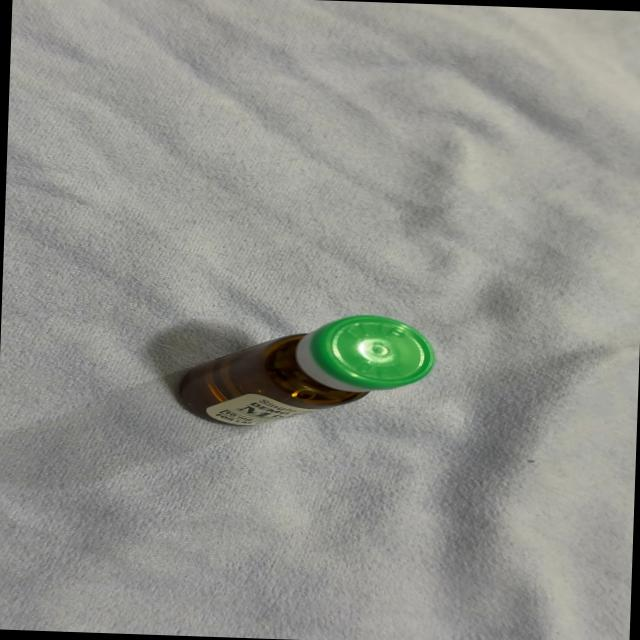midazolm: (181, 310, 431, 430)
